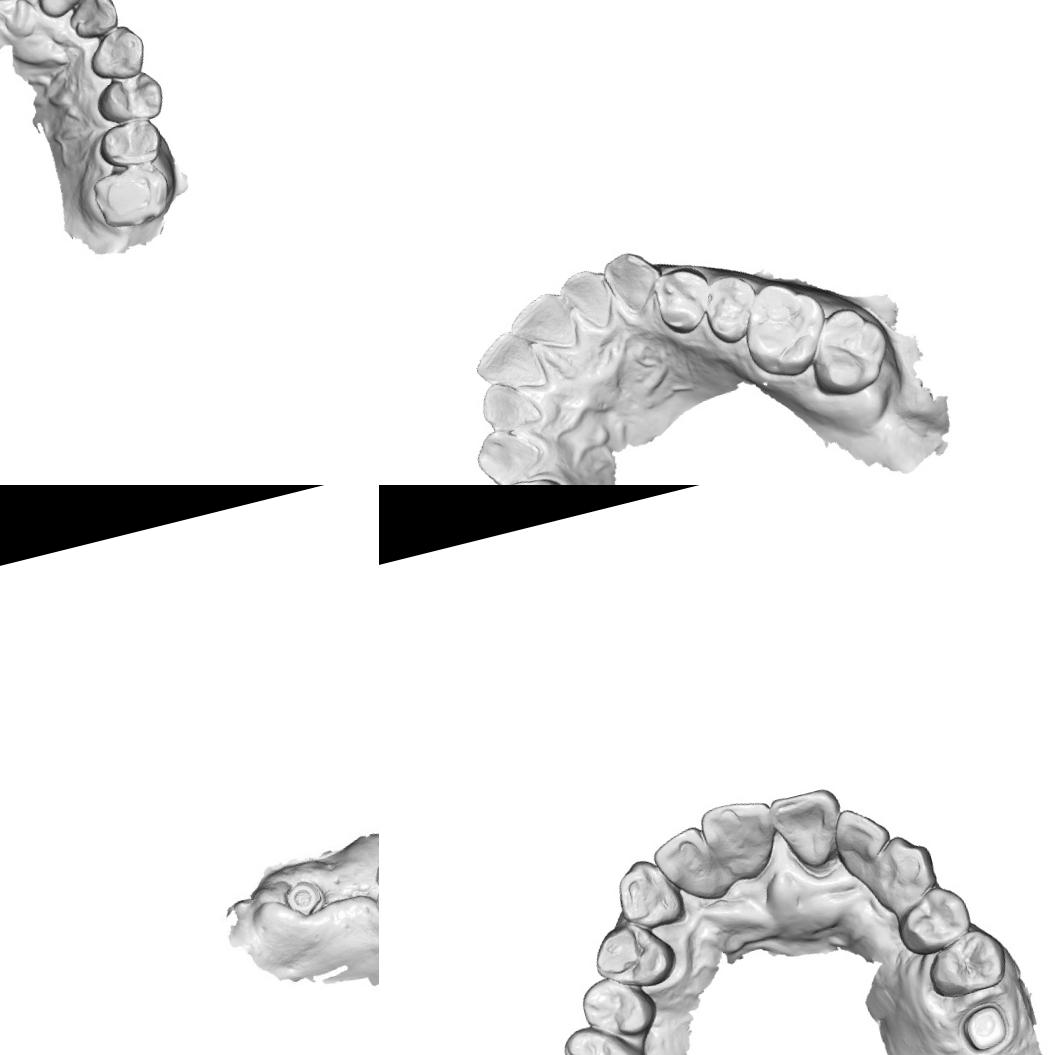abutment: (957, 1001, 1012, 1055)
canine: (863, 826, 943, 916), (607, 851, 688, 936), (466, 418, 551, 485), (596, 242, 668, 321), (82, 22, 150, 86)
implant: (276, 868, 327, 924)
incisor: (695, 792, 785, 890), (763, 781, 851, 879), (466, 322, 550, 408), (646, 822, 722, 913), (502, 286, 584, 362), (827, 798, 896, 882), (554, 260, 621, 340), (474, 372, 544, 438), (61, 0, 121, 42), (24, 0, 104, 21)
molar: (728, 272, 837, 388), (798, 297, 899, 404), (86, 156, 177, 234), (545, 1012, 660, 1055)
premolar: (586, 912, 682, 999), (574, 966, 662, 1048), (920, 926, 1010, 1004), (890, 878, 978, 957), (692, 267, 765, 349), (648, 261, 720, 339), (89, 64, 168, 128), (92, 112, 167, 174), (494, 468, 575, 485)
